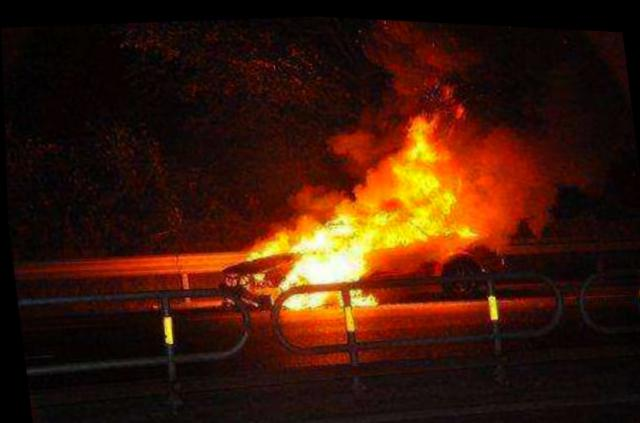fire: (236, 94, 482, 316)
